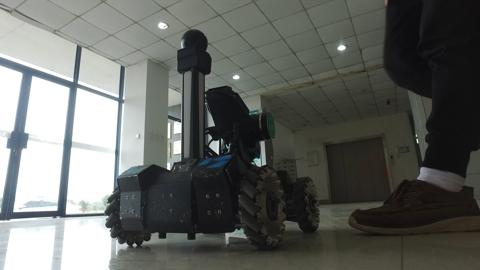chariot: (86, 25, 332, 254)
